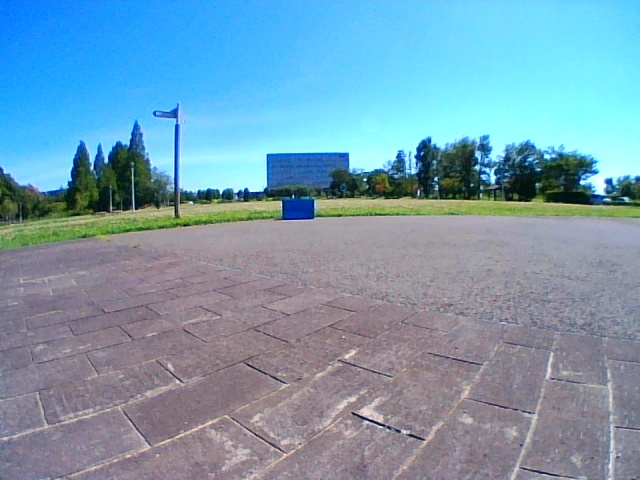blue_box: (284, 198, 313, 220)
